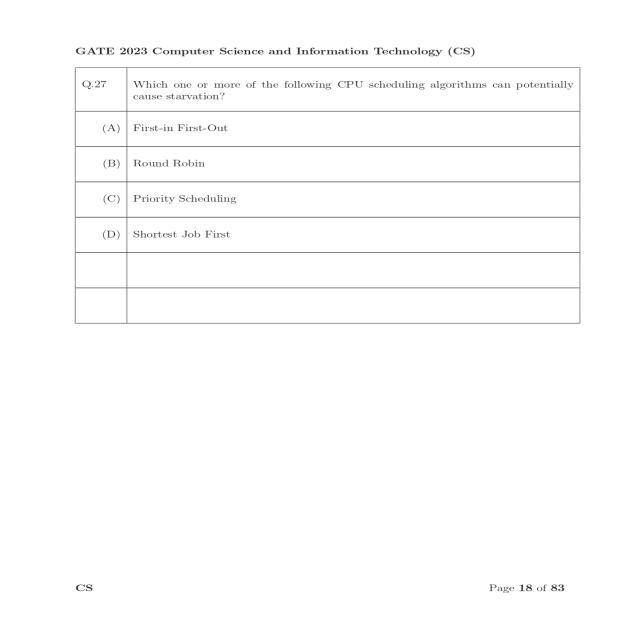Answer_Block: (52, 110, 602, 341)
Question_Answer_Block: (52, 63, 602, 341)
Question_Block: (52, 64, 602, 110)
Question_Paper_Area: (52, 63, 602, 341)
